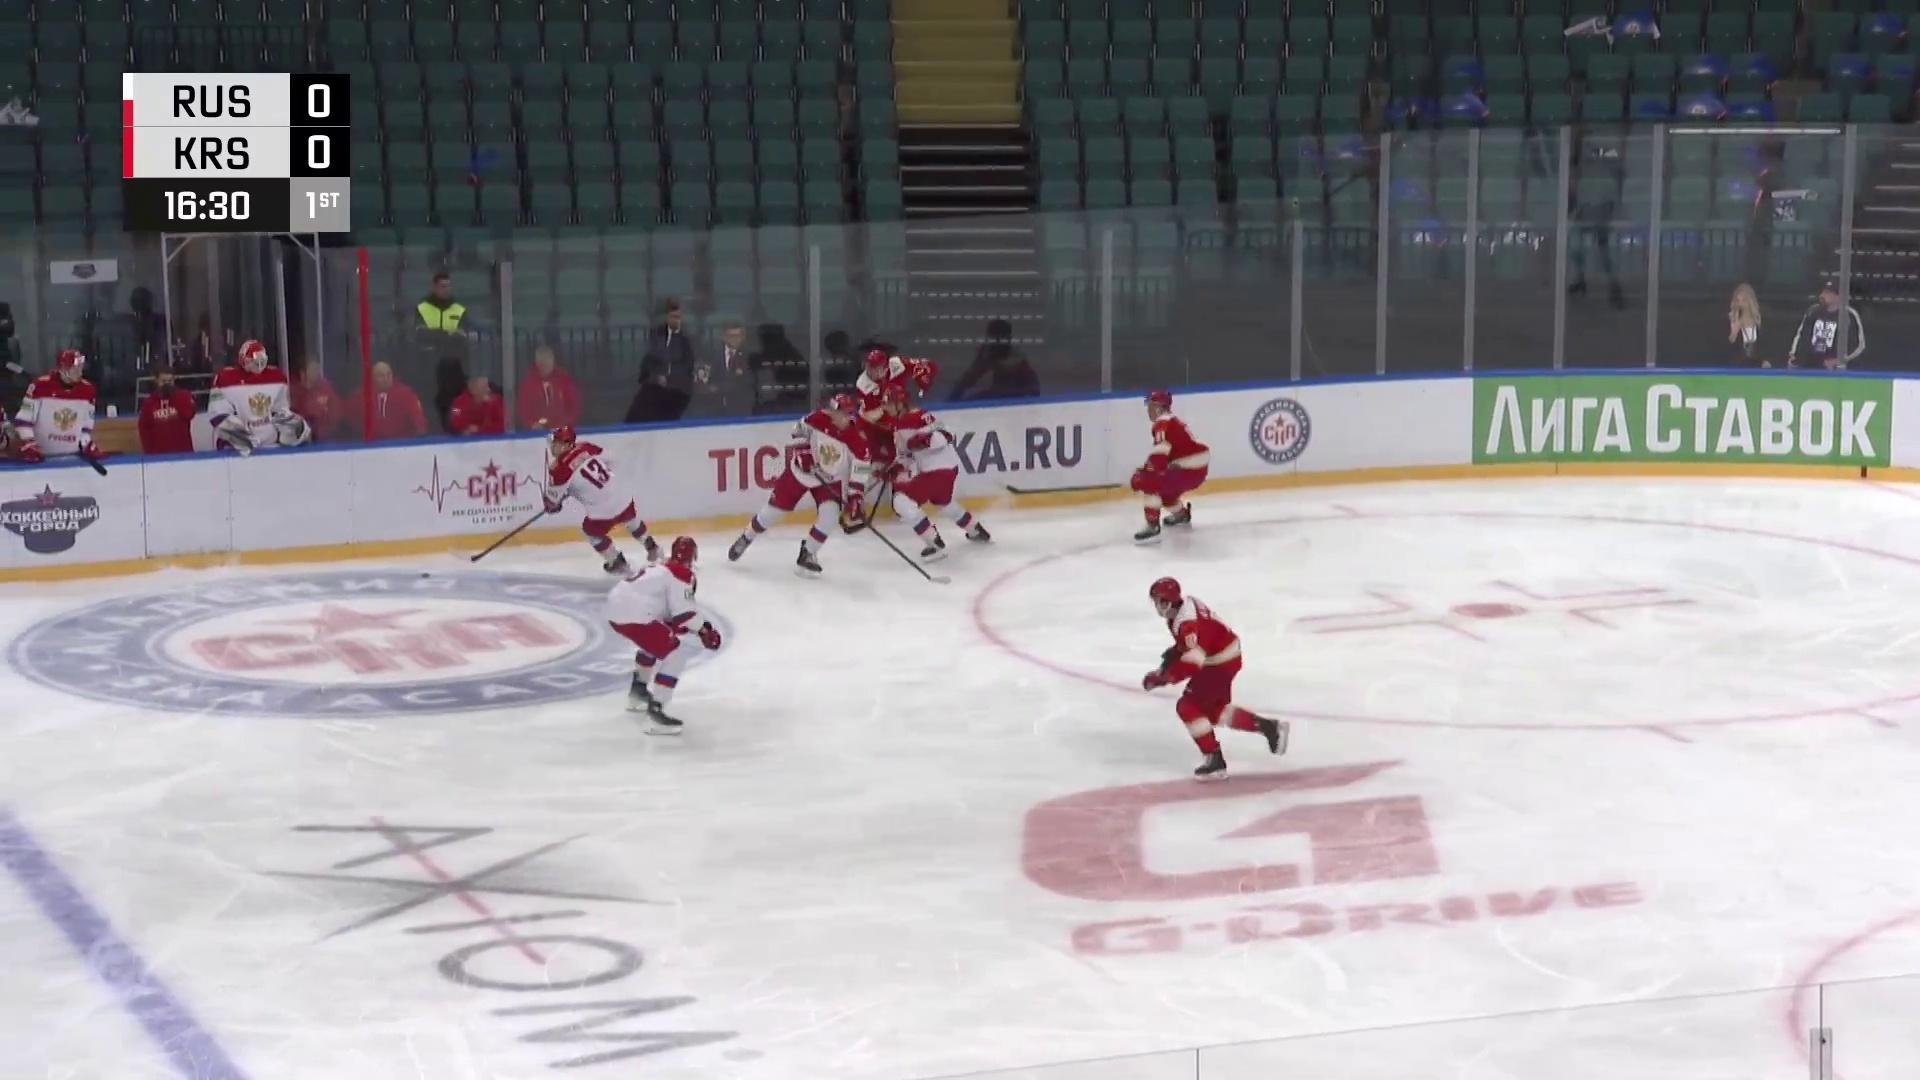ball: (421, 571, 431, 579)
